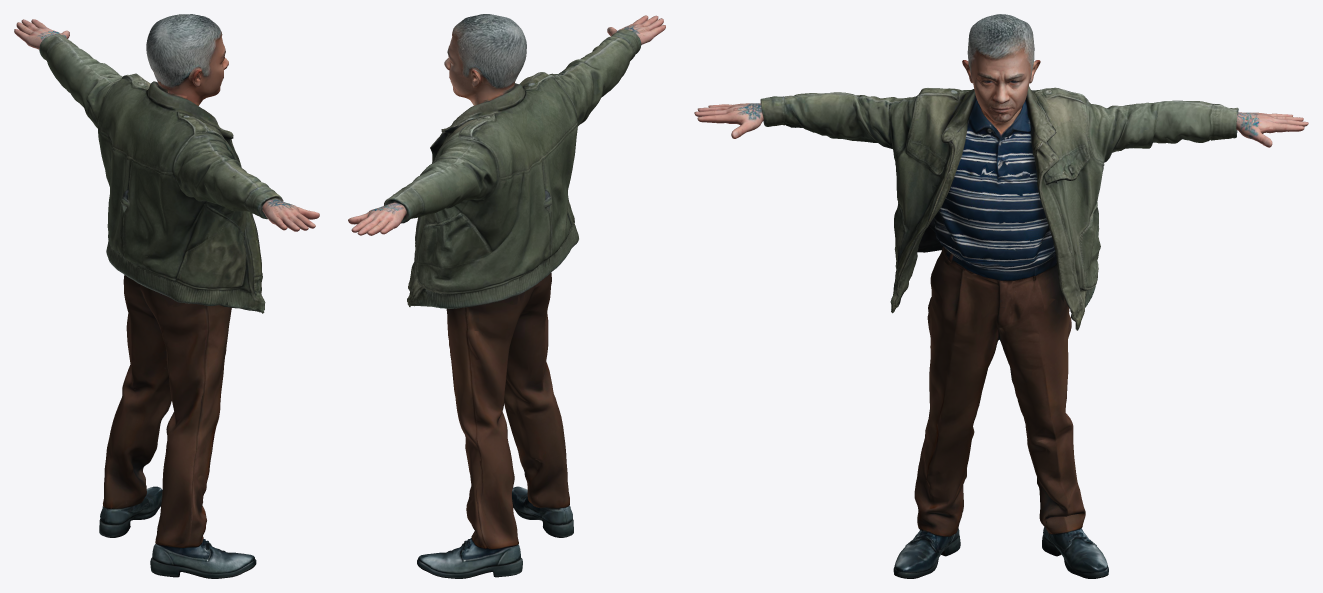
The model's file is master.glb.
3 views of the same model, side by side, from view 1: azimuth 30°, elevation 25°; view 2: azimuth 150°, elevation 25°; view 3: azimuth 270°, elevation 25° (orthographic). The views are drawn at different scales.
Parts seen in each view (by area): view 1: w_tp_gun_older; view 2: w_tp_gun_older; view 3: w_tp_gun_older.
Part boxes in pixels (bbox=[...]): w_tp_gun_older: bbox=[14, 14, 319, 578]; w_tp_gun_older: bbox=[348, 14, 665, 578]; w_tp_gun_older: bbox=[694, 14, 1308, 578].
Size of the model in its own units: 0.3933 by 1.8 by 1.82.
Materials: 1 (1 with a texture image).
